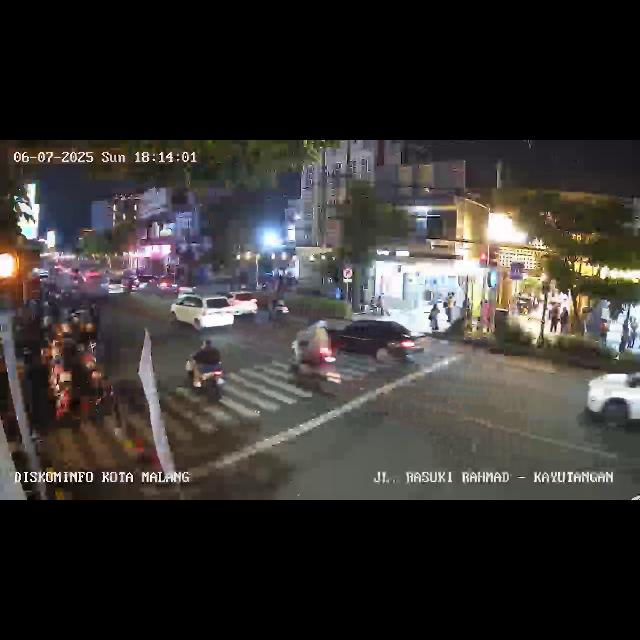car: (315, 320, 425, 364), (588, 367, 640, 437), (169, 294, 235, 334), (224, 292, 258, 318), (101, 276, 125, 296)
motorcycle: (290, 319, 342, 401), (184, 338, 226, 407), (266, 294, 292, 326)
person: (428, 304, 440, 332), (444, 292, 454, 324), (560, 306, 570, 334), (600, 316, 608, 348), (550, 303, 558, 333), (630, 318, 638, 348)
